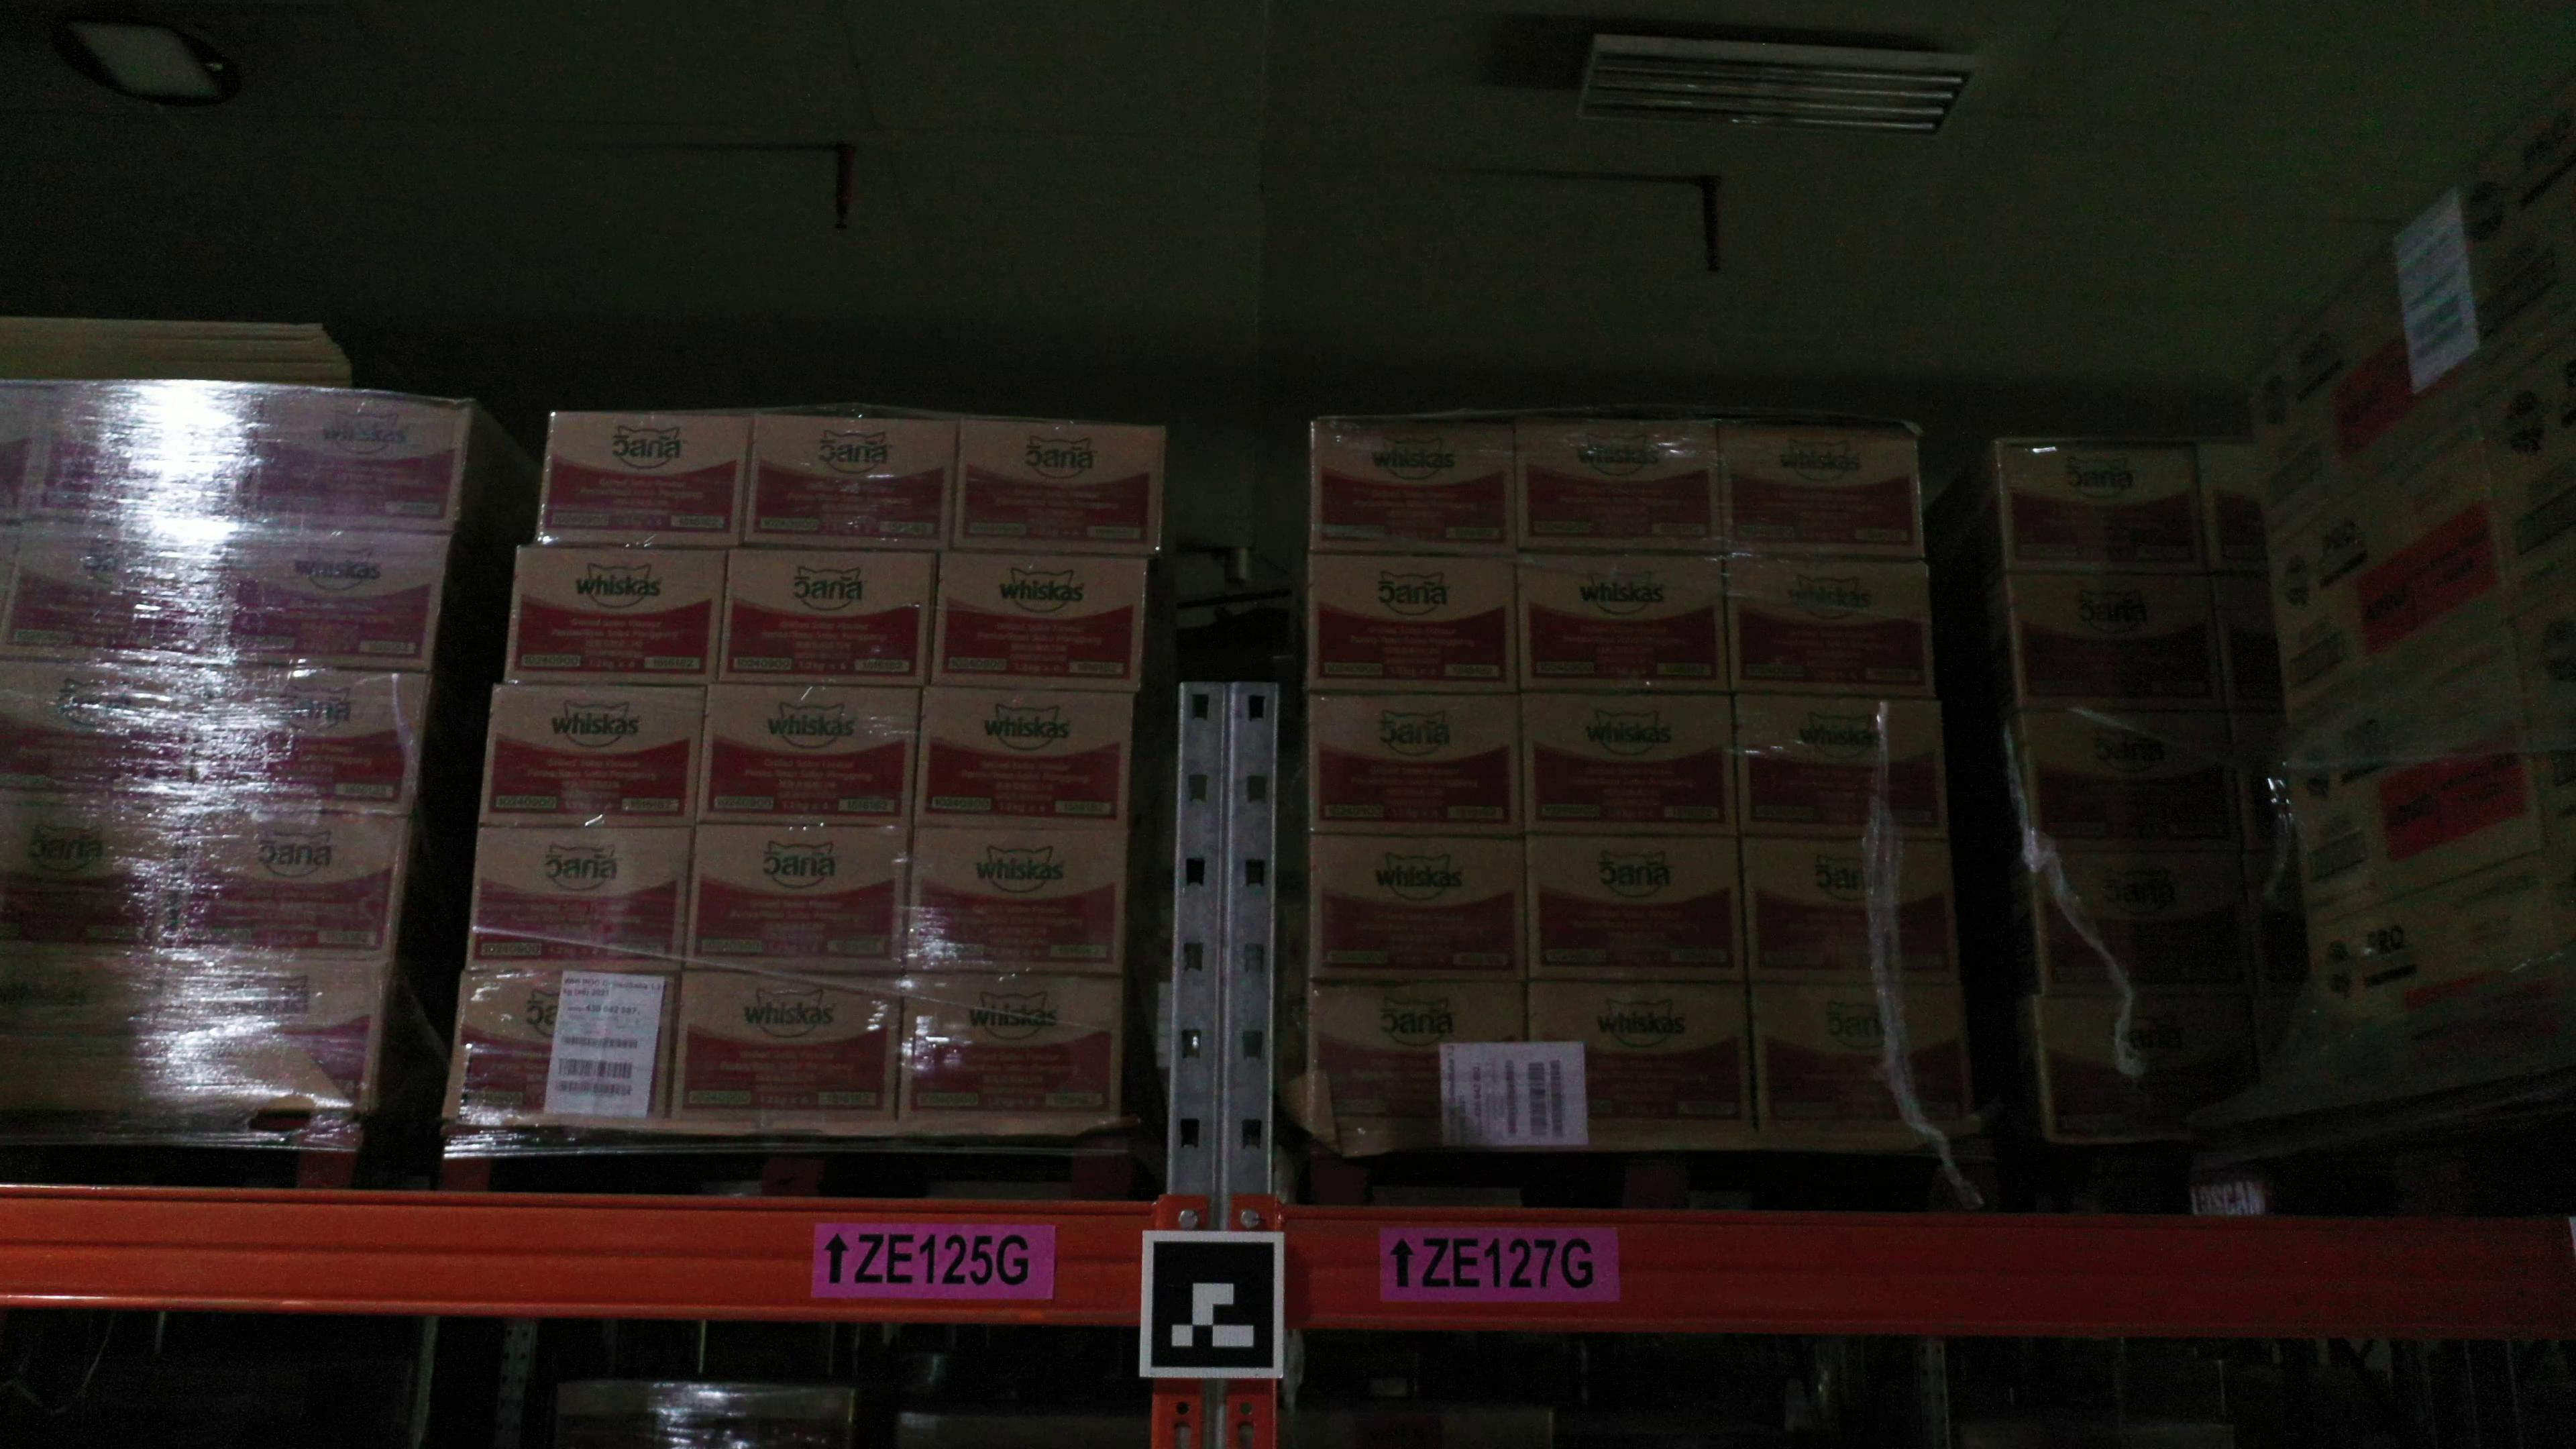box: (147, 950, 387, 1116), (184, 663, 433, 819), (23, 379, 264, 536), (170, 805, 407, 961), (237, 384, 472, 536), (212, 527, 455, 672), (686, 823, 915, 975), (446, 973, 679, 1122), (1739, 833, 1959, 991), (672, 971, 906, 1118), (467, 824, 694, 975), (1525, 980, 1757, 1127), (1525, 832, 1748, 984), (2040, 991, 2270, 1138), (0, 527, 235, 671), (478, 681, 706, 828), (908, 824, 1127, 977), (1518, 688, 1739, 839), (2022, 713, 2243, 862), (1311, 830, 1527, 982), (1306, 688, 1525, 837), (1730, 692, 1950, 840), (901, 971, 1125, 1116), (1723, 559, 1941, 706), (931, 548, 1146, 695), (502, 548, 729, 688), (715, 545, 934, 688), (0, 658, 214, 805), (1713, 418, 1923, 566), (536, 407, 754, 550), (1304, 982, 1527, 1122), (1746, 984, 1966, 1125), (2008, 575, 2229, 715), (702, 688, 922, 828), (740, 414, 961, 552), (0, 794, 189, 955), (955, 418, 1168, 561), (1307, 552, 1520, 695), (915, 692, 1132, 830), (1994, 441, 2210, 577), (2035, 862, 2256, 994), (1311, 418, 1518, 559), (1516, 418, 1723, 559), (1518, 557, 1730, 692), (0, 941, 170, 1044), (0, 379, 60, 527)
